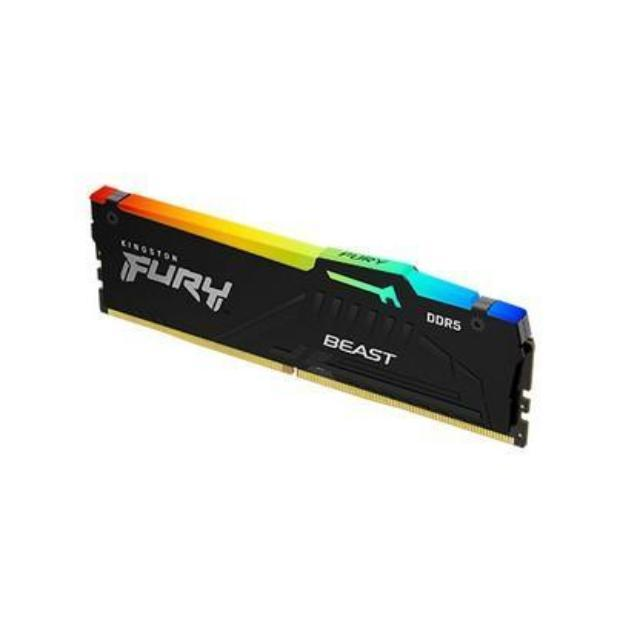RAM: (90, 181, 542, 456)
